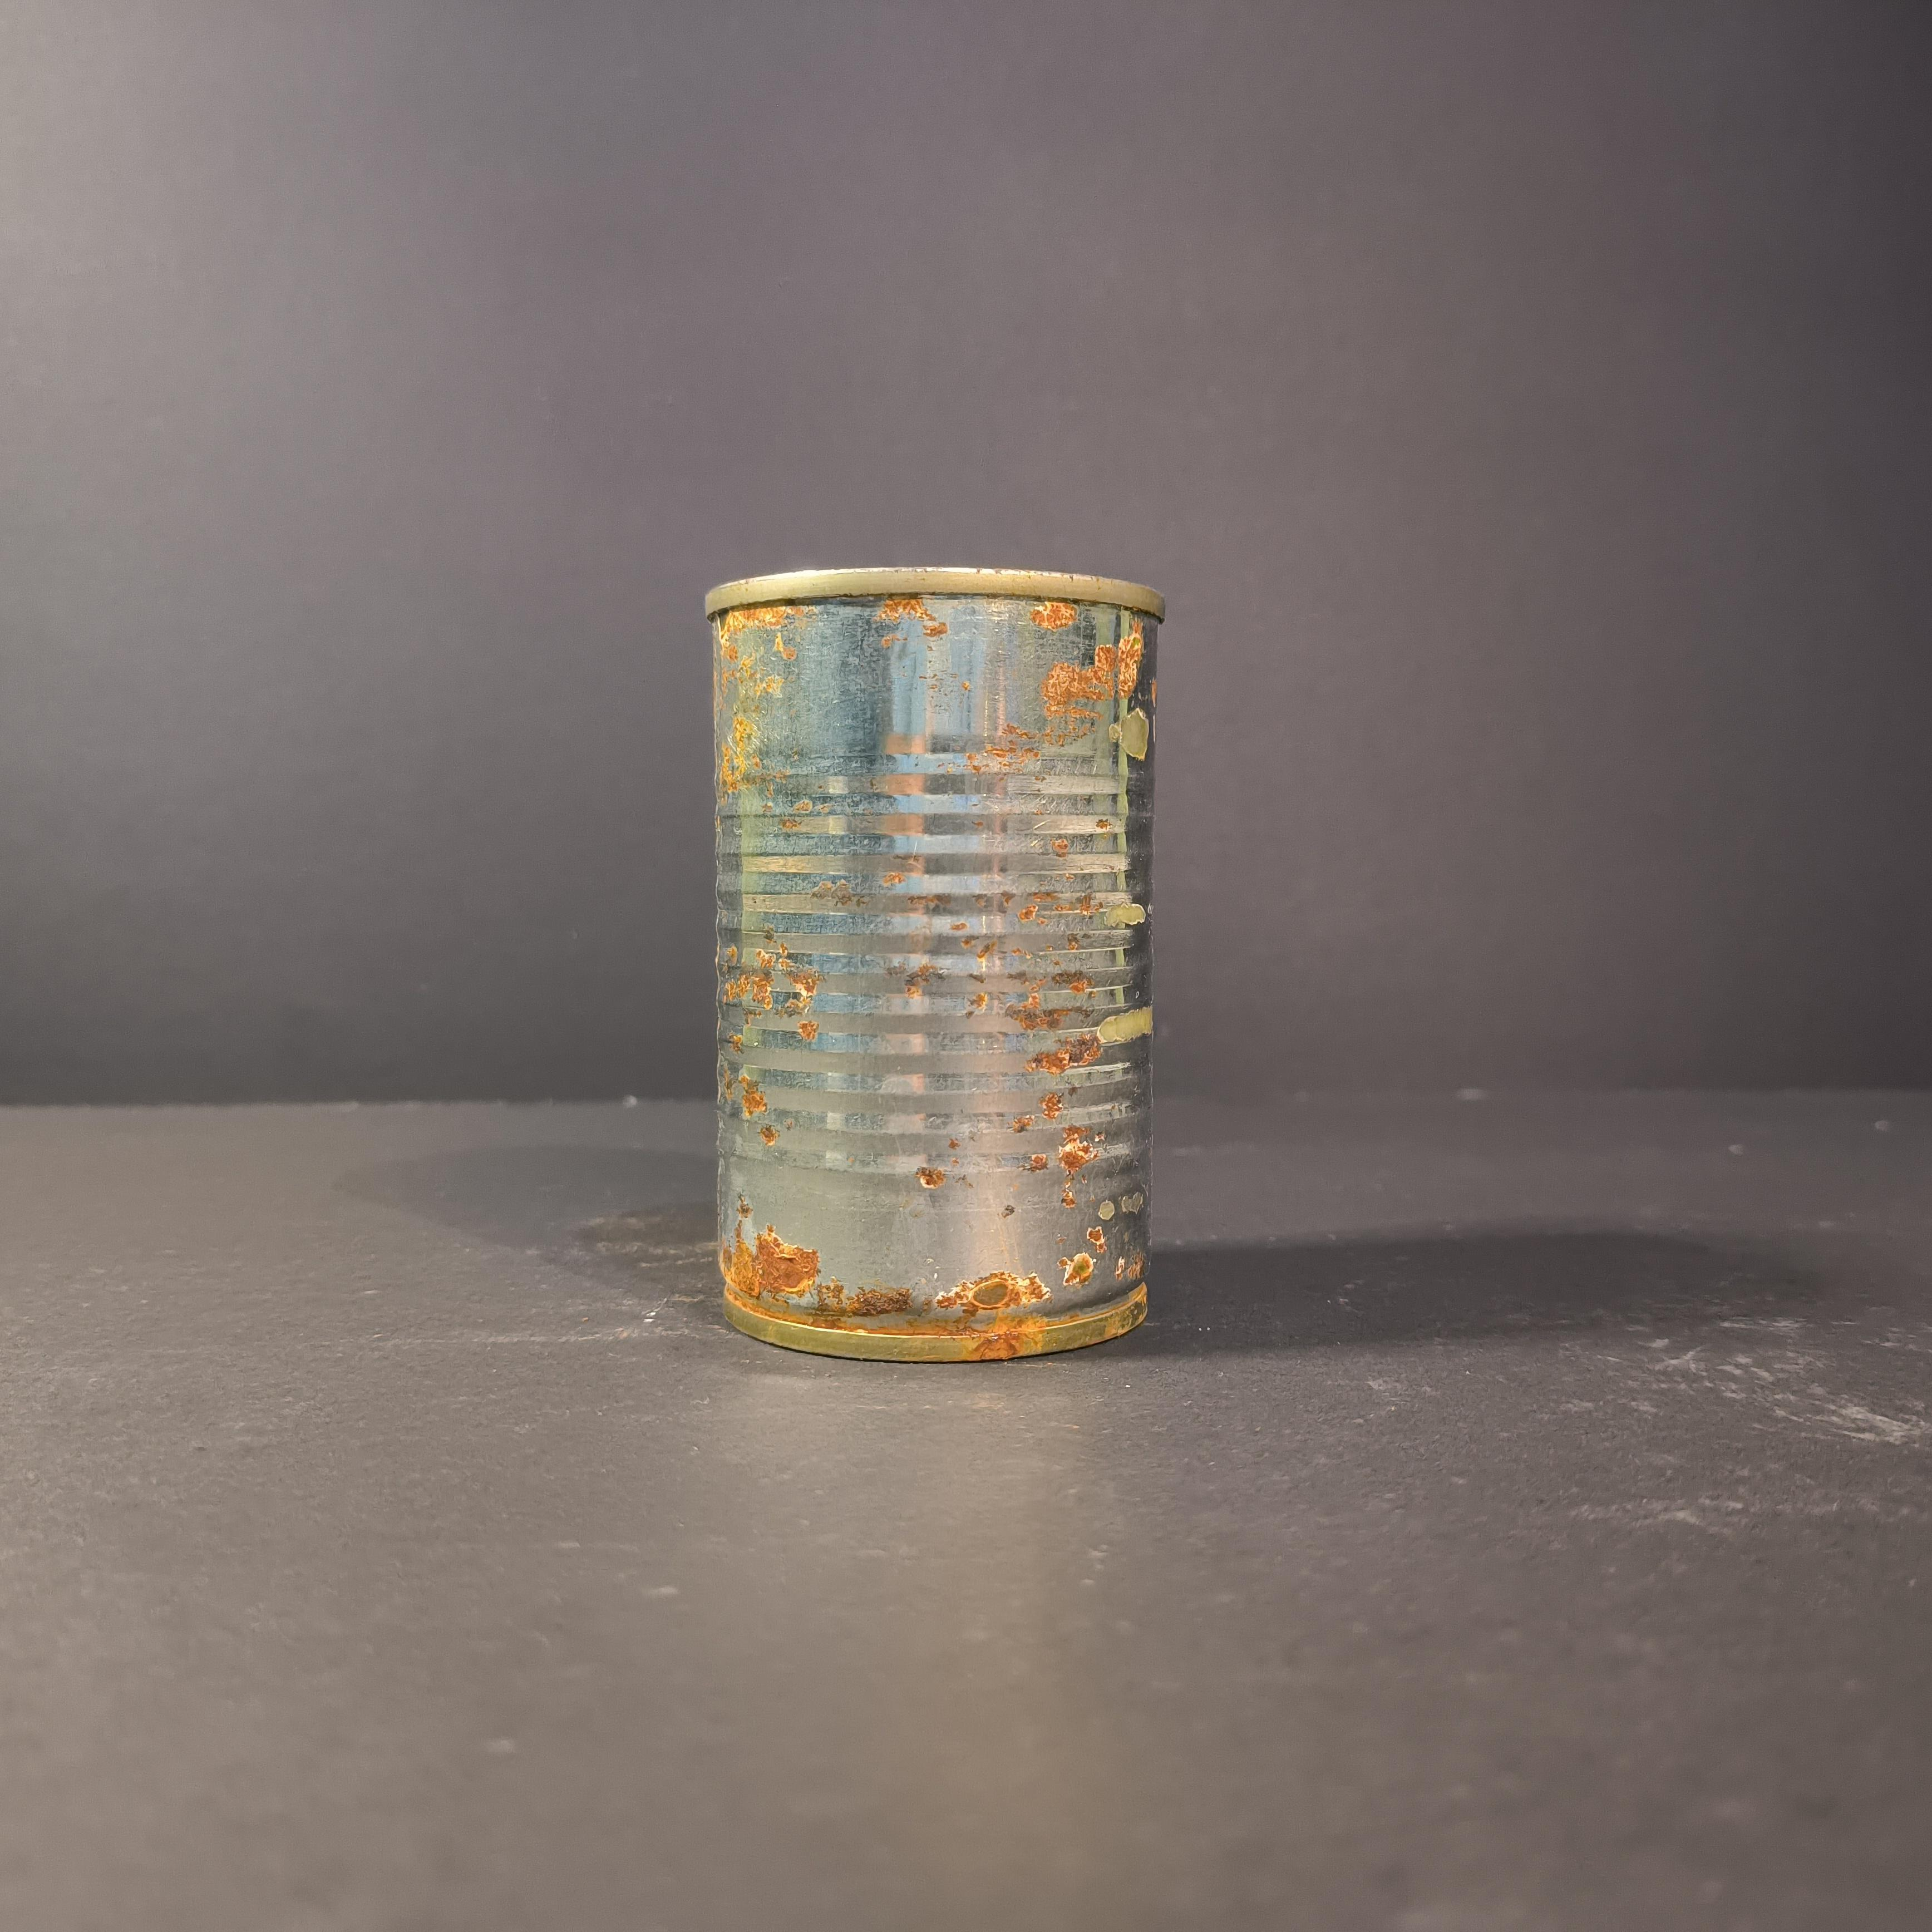Rusted: (690, 534, 1185, 1384)
